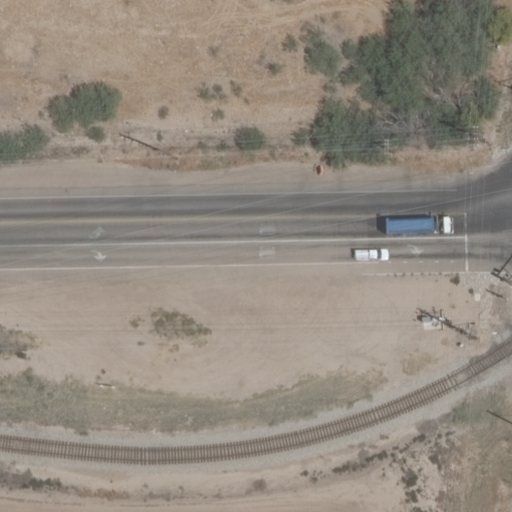DT: (459, 322, 484, 351)
